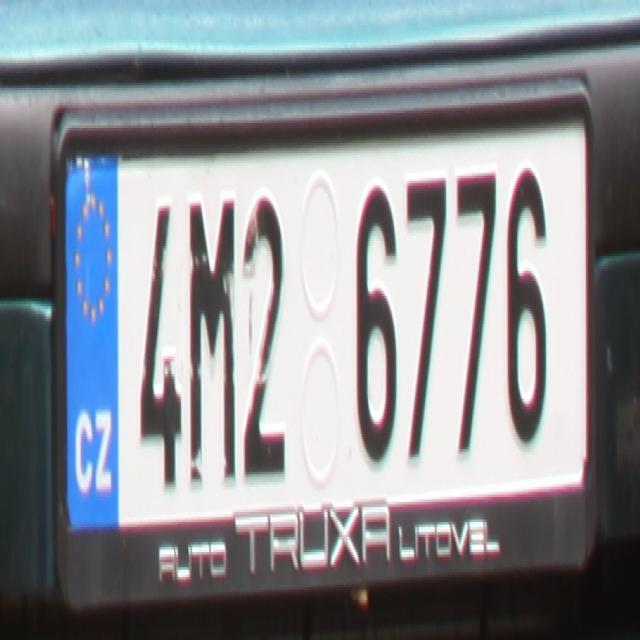2: (243, 183, 287, 480)
4: (139, 198, 184, 490)
6: (503, 153, 548, 457), (354, 176, 398, 480)
7: (453, 160, 499, 484), (405, 176, 448, 474)
M: (186, 196, 239, 492)
